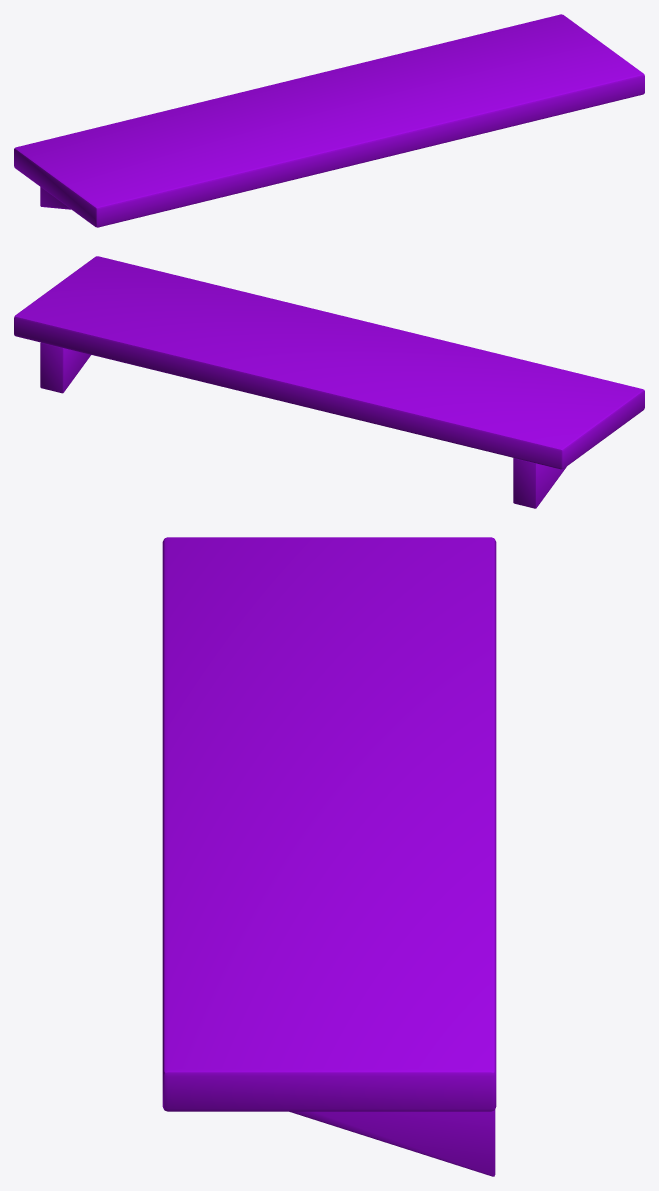
Rendered from SM_etagere_bar.fbx.
3 renders of one model, top to bottom at view 1: azimuth 30°, elevation 25°; view 2: azimuth 150°, elevation 25°; view 3: azimuth 270°, elevation 25°, orthographic. The views are drawn at different scales.
Visible parts, largest first — view 1: Cube.034, Cube.035; view 2: Cube.034, Cube.035; view 3: Cube.034, Cube.035.
Part boxes in pixels (x1,y1,x2,y2): Cube.034: (14,14,644,227); Cube.035: (40,187,70,209); Cube.034: (14,256,644,469); Cube.035: (40,342,566,508); Cube.034: (162,537,496,1111); Cube.035: (289,1109,495,1176).
Size of the model in its own units: 333 by 38.3 by 87.65.
